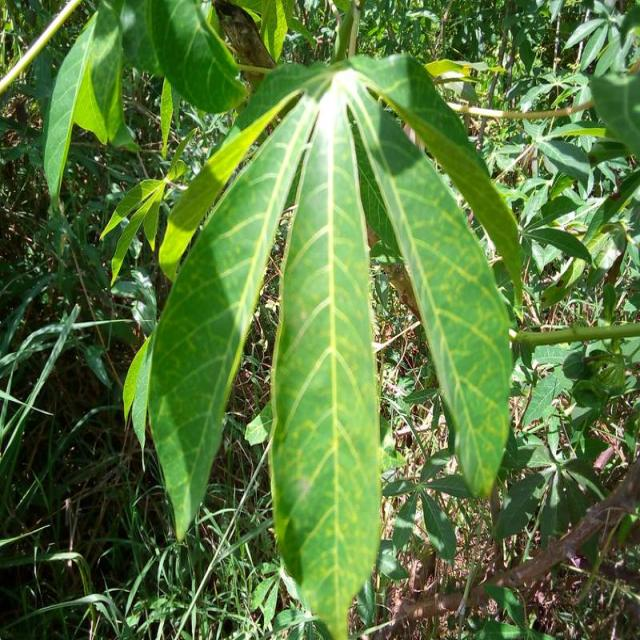cassava leaf: (138, 52, 520, 637), (269, 75, 382, 638)
